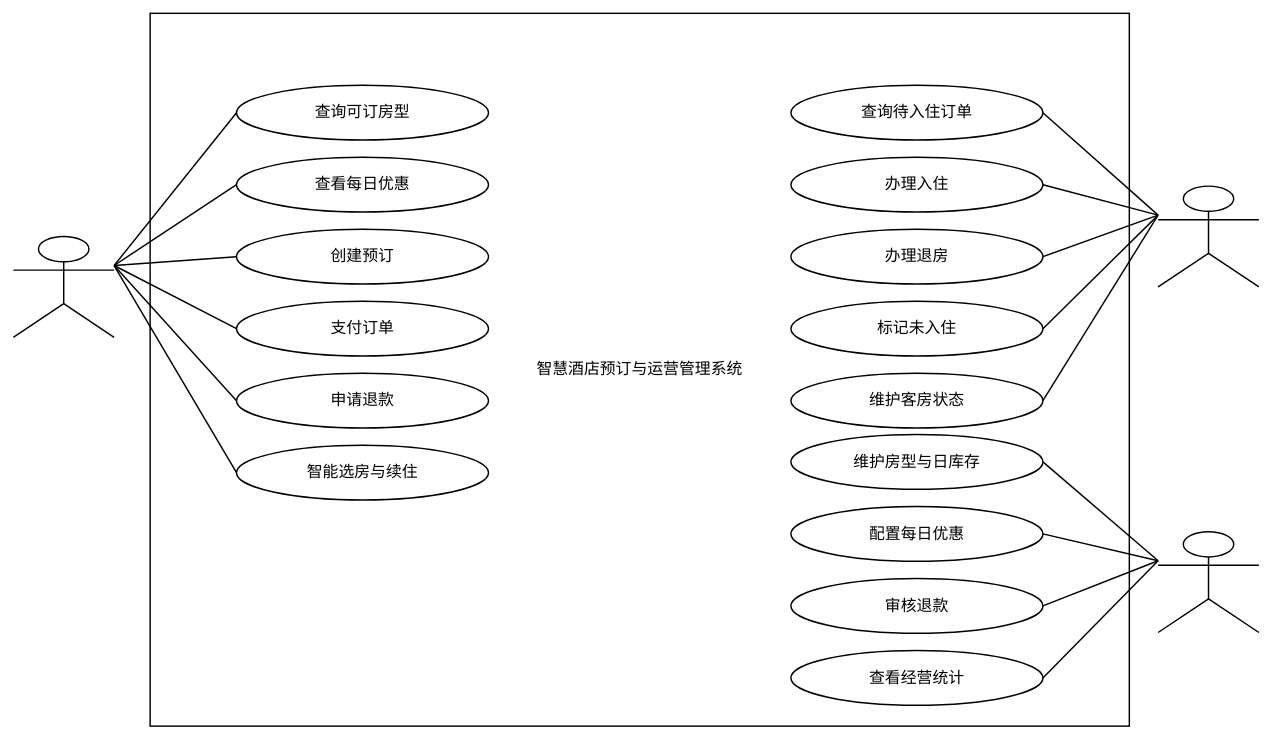
The diagram is 1272 pixels wide and 739 high, and some of its shapes have lost their labels. The centre of each missing label's shape, as x and y in pixels:
"前台" goes at pixel 1208 236.
"管理员" goes at pixel 1208 582.
"顾客" goes at pixel 63 286.
